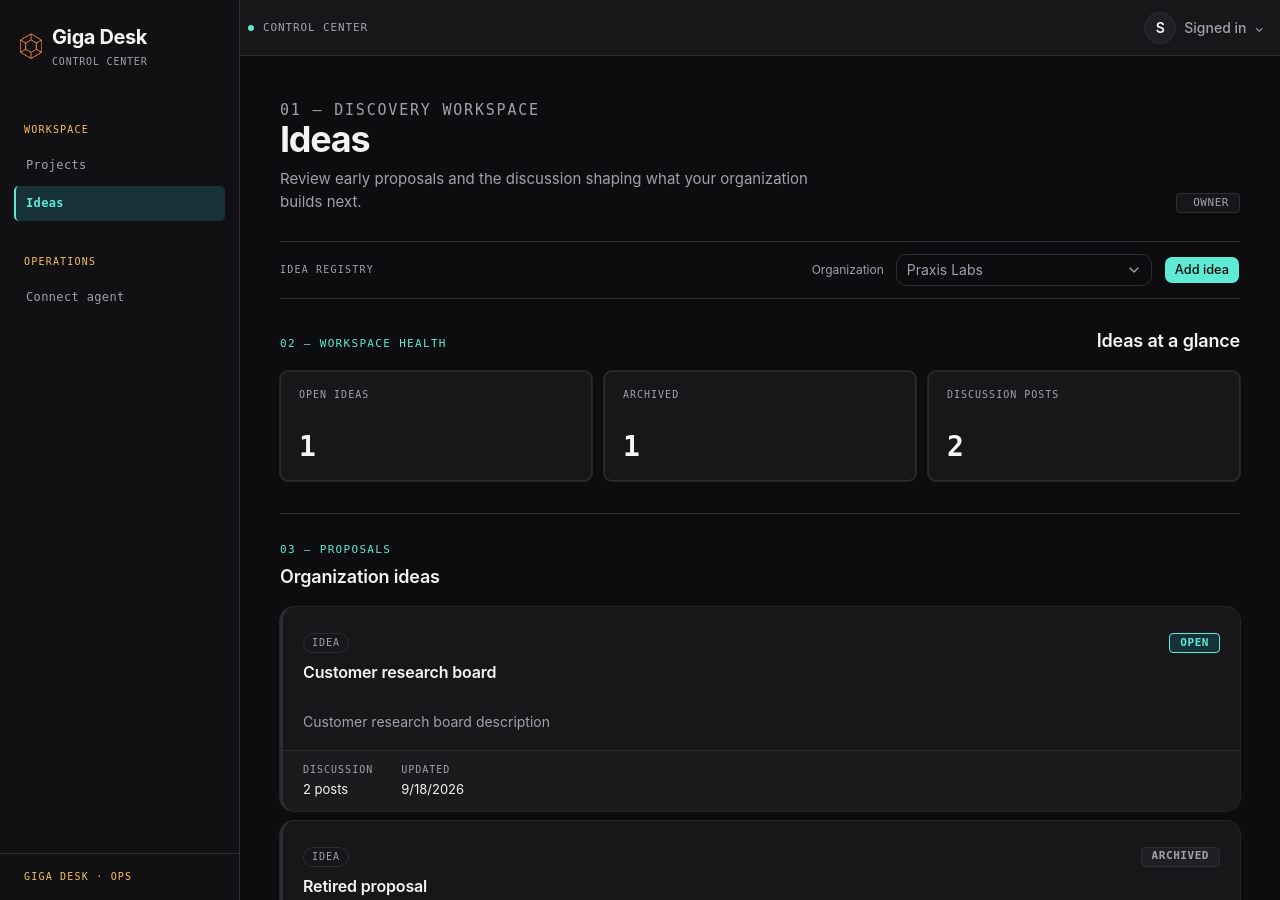
Test: IdeasPage › lists ideas for the selected member organization
Expected: the heading "Customer research board" is shown, [303, 662, 496, 682]
Expected: the text "Retired proposal" shows "Archived", [1152, 849, 1209, 862]
Select "Customer Council" in the dropdown labelled "Organization" at (1024, 270), box [896, 254, 1152, 286]
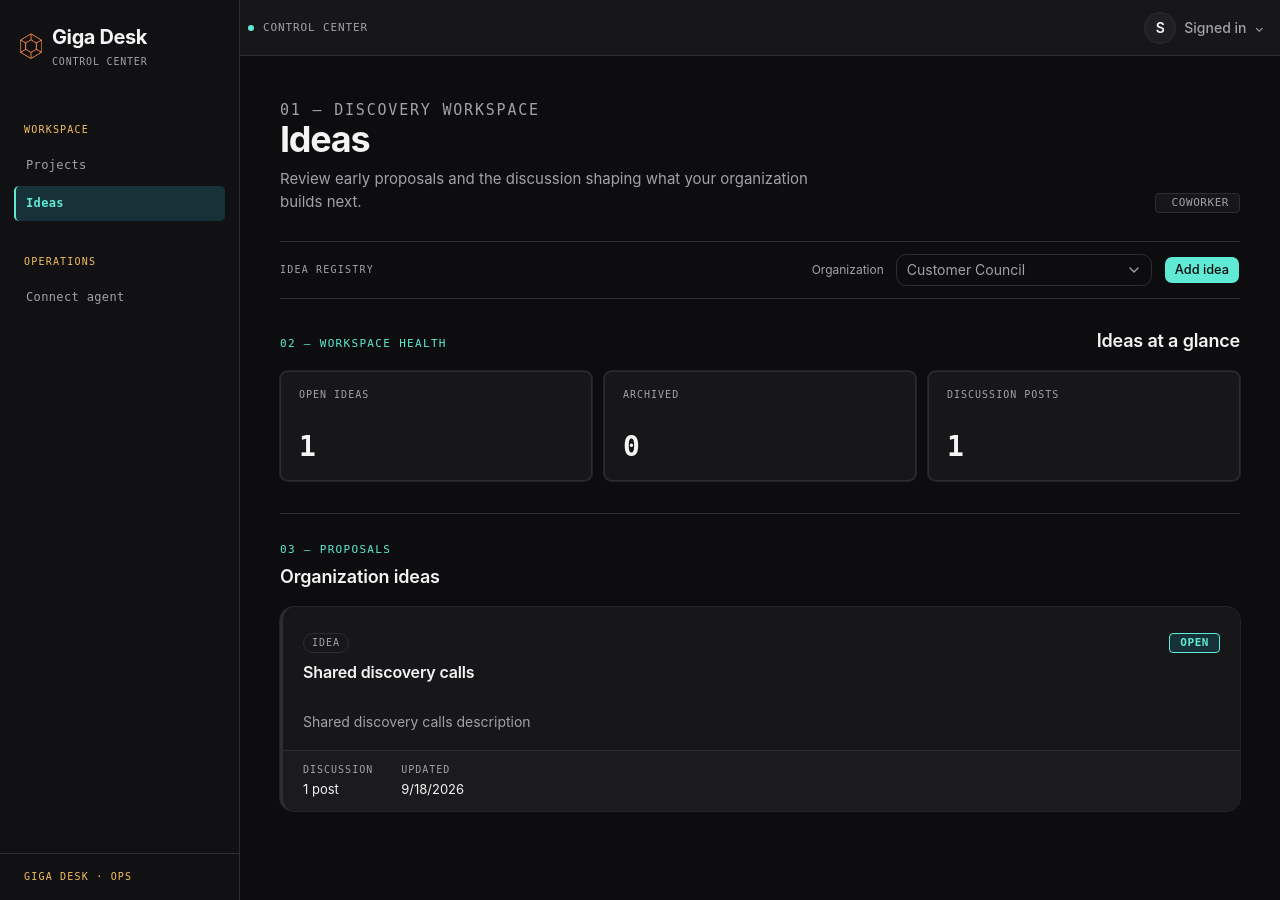
Now the heading "Shared discovery calls" is shown, box [303, 662, 474, 682]
Now the heading "Customer research board" is gone
Now the text "Coworker" is shown, box [1155, 193, 1240, 213]
